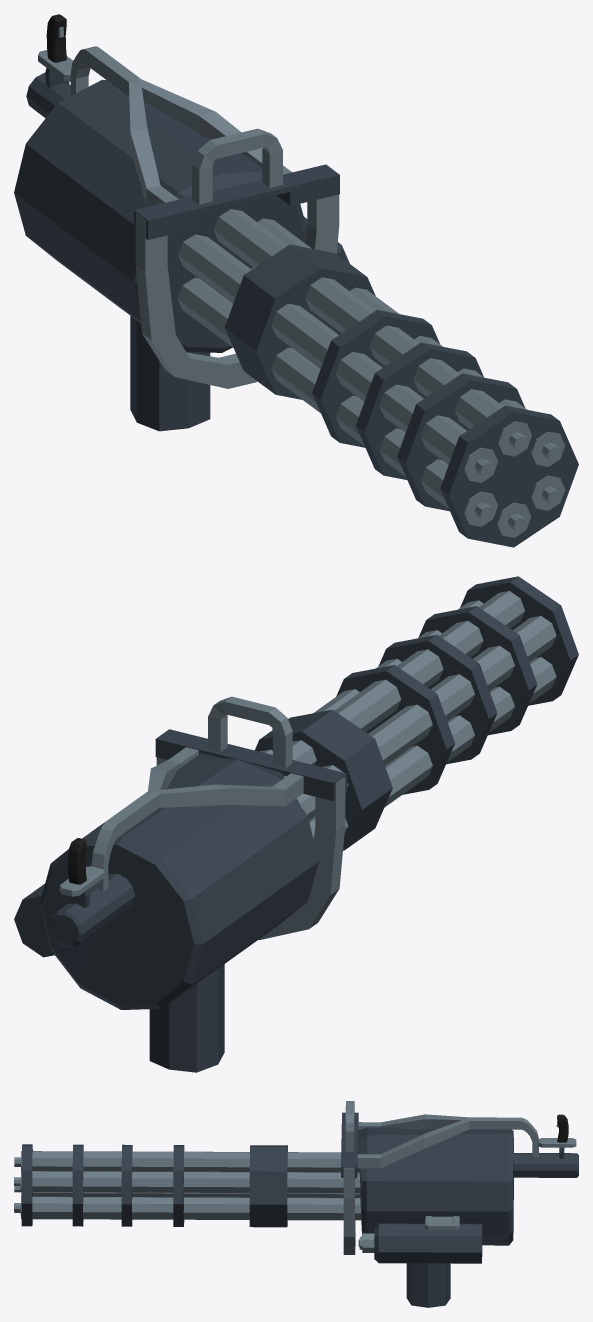
The model's file is minigun.fbx.
3 views of the same model, one above another, from view 1: azimuth 30°, elevation 25°; view 2: azimuth 150°, elevation 25°; view 3: azimuth 270°, elevation 25° (orthographic). The views are drawn at different scales.
Parts seen in each view (by area): view 1: 1Minigun.001; view 2: 1Minigun.001; view 3: 1Minigun.001.
Boxes of the visible parts, bbox=[...] form: 1Minigun.001: bbox=[14, 14, 578, 547]; 1Minigun.001: bbox=[14, 576, 578, 1072]; 1Minigun.001: bbox=[14, 1101, 578, 1307].
Size of the model in its own units: 26.39 by 34.91 by 93.85.
